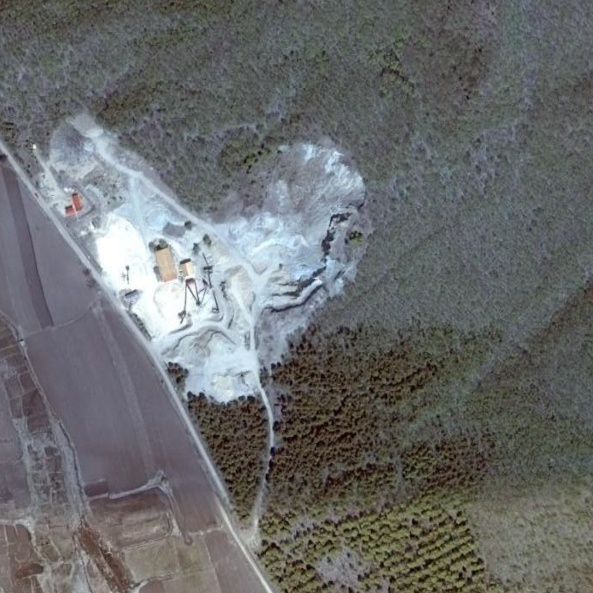slope: (221, 138, 367, 365), (169, 326, 257, 402), (48, 112, 118, 176)
